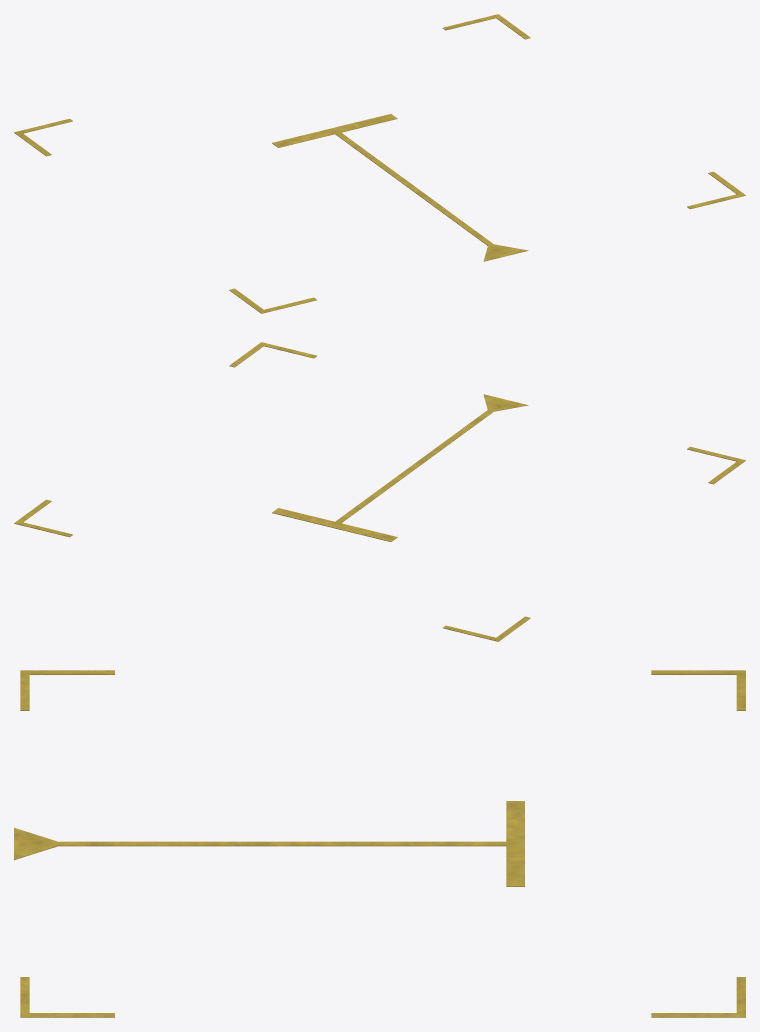
The model's file is parking_mark.glb.
3 views of the same model, one above another, from view 1: azimuth 30°, elevation 25°; view 2: azimuth 150°, elevation 25°; view 3: azimuth 270°, elevation 25° (orthographic). The views are drawn at different scales.
Parts seen in each view (by area): view 1: mark; view 2: mark; view 3: mark.
Part boxes in pixels (bbox=[...]): mark: bbox=[14, 14, 745, 313]; mark: bbox=[14, 342, 745, 641]; mark: bbox=[14, 670, 745, 1017].
Size of the model in its own units: 13 by 0.012 by 11.6.
Materials: 1 (1 with a texture image).
